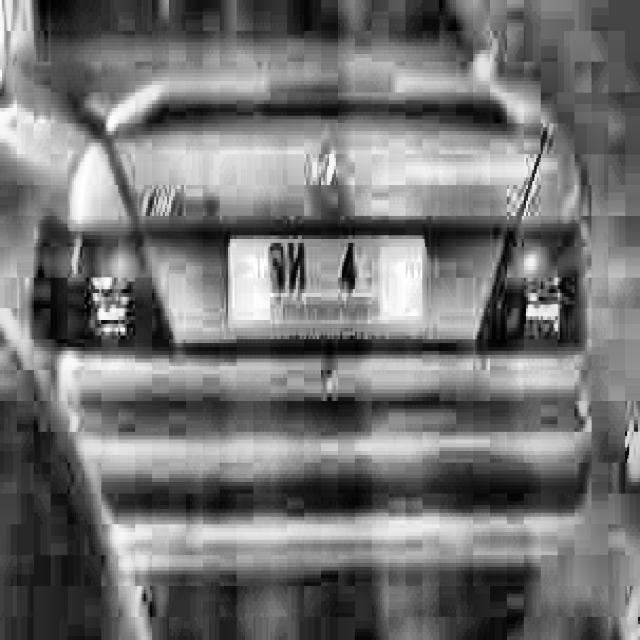license-plate: (228, 227, 427, 338)
